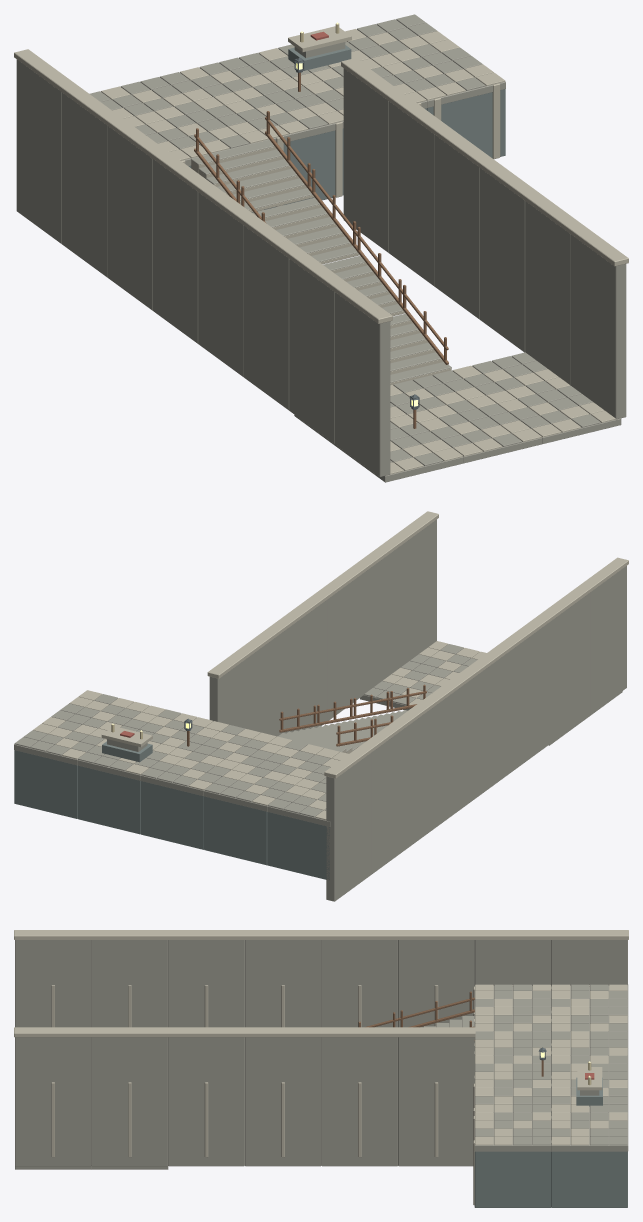
Rendered from tv_43_03_tower_stairwell.glb.
The picture shows the model from 3 angles, top to bottom: view 1: azimuth 30°, elevation 25°; view 2: azimuth 150°, elevation 25°; view 3: azimuth 270°, elevation 25°; orthographic projection. The views are drawn at different scales.
Parts seen in each view (by area): view 1: tower_shell_wall_0039, tower_shell_wall_0040, tower_shell_wall_0043, tower_shell_wall_0045, tower_shell_wall_0052, tower_shell_wall_0041, tower_shell_wall_0046, tower_shell_wall_0047, tower_shell_wall_0048, tower_shell_wall_0049, tower_shell_wall_0051, tower_shell_wall_0044 (+27 smaller); view 2: tower_shell_wall_0052, tower_shell_wall_0045, tower_shell_wall_0049, tower_shell_wall_0039, tower_shell_wall_0043, tower_shell_wall_0051, tower_shell_wall_0047, tower_shell_wall_0041, tower_shell_wall_0040, tower_shell_wall_0042, tower_shell_wall_0044, tower_shell_wall_0046 (+21 smaller); view 3: tower_shell_wall_0042, tower_shell_wall_0040, tower_shell_wall_0046, tower_shell_wall_0048, tower_shell_wall_0044, tower_shell_wall_0050, tower_shell_wall_0041, tower_shell_wall_0043, tower_shell_wall_0039, tower_shell_wall_0045, tower_shell_wall_0047, tower_shell_wall_0049 (+16 smaller).
Part boxes in pixels (x1=…): tower_shell_wall_0039: x1=332, y1=282, x2=392, y2=476; tower_shell_wall_0040: x1=568, y1=224, x2=628, y2=419; tower_shell_wall_0043: x1=241, y1=216, x2=300, y2=410; tower_shell_wall_0045: x1=195, y1=182, x2=255, y2=376; tower_shell_wall_0052: x1=14, y1=49, x2=73, y2=243; tower_shell_wall_0041: x1=286, y1=249, x2=346, y2=443; tower_shell_wall_0046: x1=432, y1=125, x2=491, y2=319; tower_shell_wall_0047: x1=150, y1=149, x2=209, y2=343; tower_shell_wall_0048: x1=387, y1=91, x2=446, y2=285; tower_shell_wall_0049: x1=105, y1=115, x2=163, y2=310; tower_shell_wall_0051: x1=59, y1=83, x2=118, y2=276; tower_shell_wall_0044: x1=478, y1=158, x2=536, y2=352; tower_shell_wall_0052: x1=324, y1=745, x2=373, y2=901; tower_shell_wall_0045: x1=471, y1=638, x2=519, y2=794; tower_shell_wall_0049: x1=399, y1=691, x2=446, y2=847; tower_shell_wall_0039: x1=581, y1=557, x2=628, y2=714; tower_shell_wall_0043: x1=508, y1=611, x2=555, y2=767; tower_shell_wall_0051: x1=362, y1=718, x2=409, y2=874; tower_shell_wall_0047: x1=435, y1=665, x2=482, y2=820; tower_shell_wall_0041: x1=545, y1=584, x2=592, y2=740; tower_shell_wall_0040: x1=391, y1=511, x2=438, y2=667; tower_shell_wall_0042: x1=354, y1=538, x2=401, y2=694; tower_shell_wall_0044: x1=318, y1=565, x2=365, y2=720; tower_shell_wall_0046: x1=282, y1=591, x2=328, y2=732; tower_shell_wall_0042: x1=91, y1=1027, x2=168, y2=1166; tower_shell_wall_0040: x1=14, y1=1027, x2=91, y2=1166; tower_shell_wall_0046: x1=244, y1=1027, x2=321, y2=1166; tower_shell_wall_0048: x1=321, y1=1027, x2=398, y2=1166; tower_shell_wall_0044: x1=167, y1=1027, x2=245, y2=1166; tower_shell_wall_0050: x1=397, y1=1027, x2=475, y2=1166; tower_shell_wall_0041: x1=91, y1=930, x2=168, y2=1027; tower_shell_wall_0043: x1=167, y1=930, x2=245, y2=1027; tower_shell_wall_0039: x1=14, y1=930, x2=91, y2=1027; tower_shell_wall_0045: x1=244, y1=930, x2=321, y2=1027; tower_shell_wall_0047: x1=321, y1=930, x2=398, y2=1027; tower_shell_wall_0049: x1=397, y1=930, x2=475, y2=1027.
Bounding box in the file's own units: 20.38 × 8.04 × 32.1.
